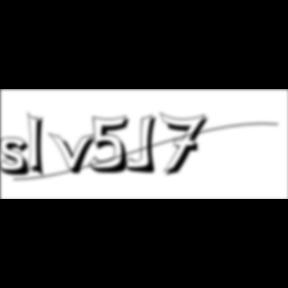5: (88, 114, 136, 176)
7: (160, 111, 215, 179)
I: (27, 110, 51, 182)
J: (124, 114, 162, 176)
s: (1, 137, 37, 179)
v: (48, 131, 102, 177)
